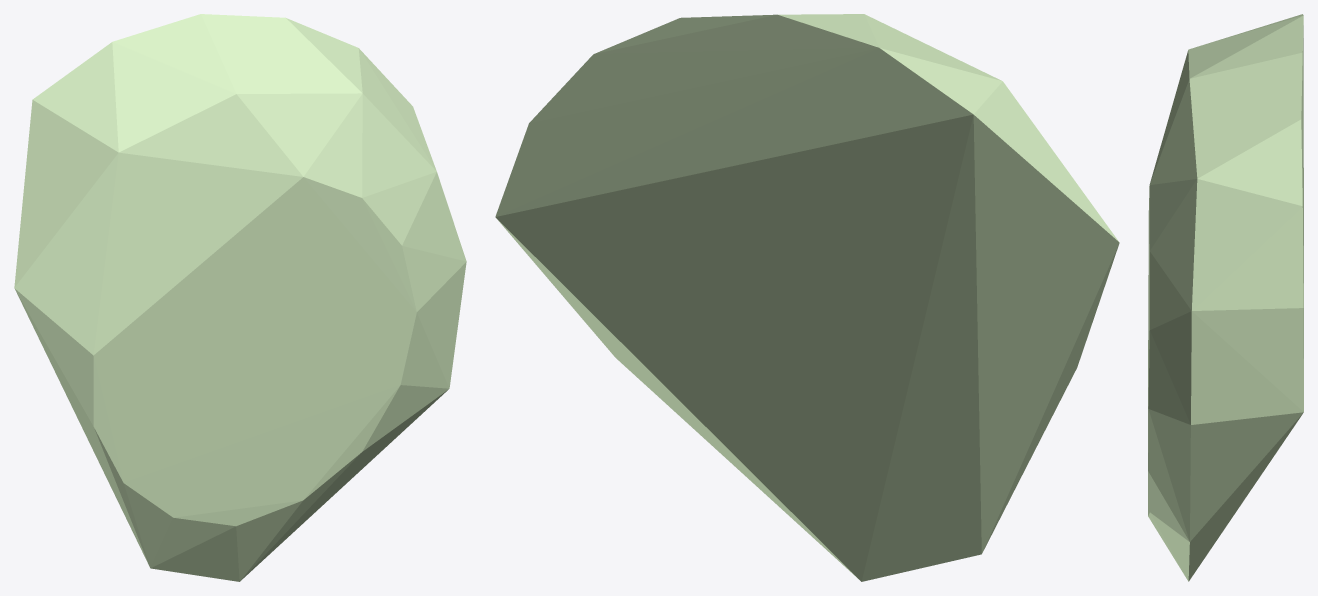
The model's file is kuka_URDF_link8_resp_coll_3.dae.
The picture shows the model from 3 angles, left to right: view 1: azimuth 30°, elevation 25°; view 2: azimuth 150°, elevation 25°; view 3: azimuth 270°, elevation 25°; orthographic projection. The views are drawn at different scales.
Parts seen in each view (by area): view 1: Node_0000020FCC58CF90; view 2: Node_0000020FCC58CF90; view 3: Node_0000020FCC58CF90.
Boxes of the visible parts, x1,y1,x2,y2 form: Node_0000020FCC58CF90: (14,14,466,581); Node_0000020FCC58CF90: (495,14,1119,581); Node_0000020FCC58CF90: (1148,14,1303,581).
Size of the model in its own units: 0.0943 by 0.098 by 0.0257.
